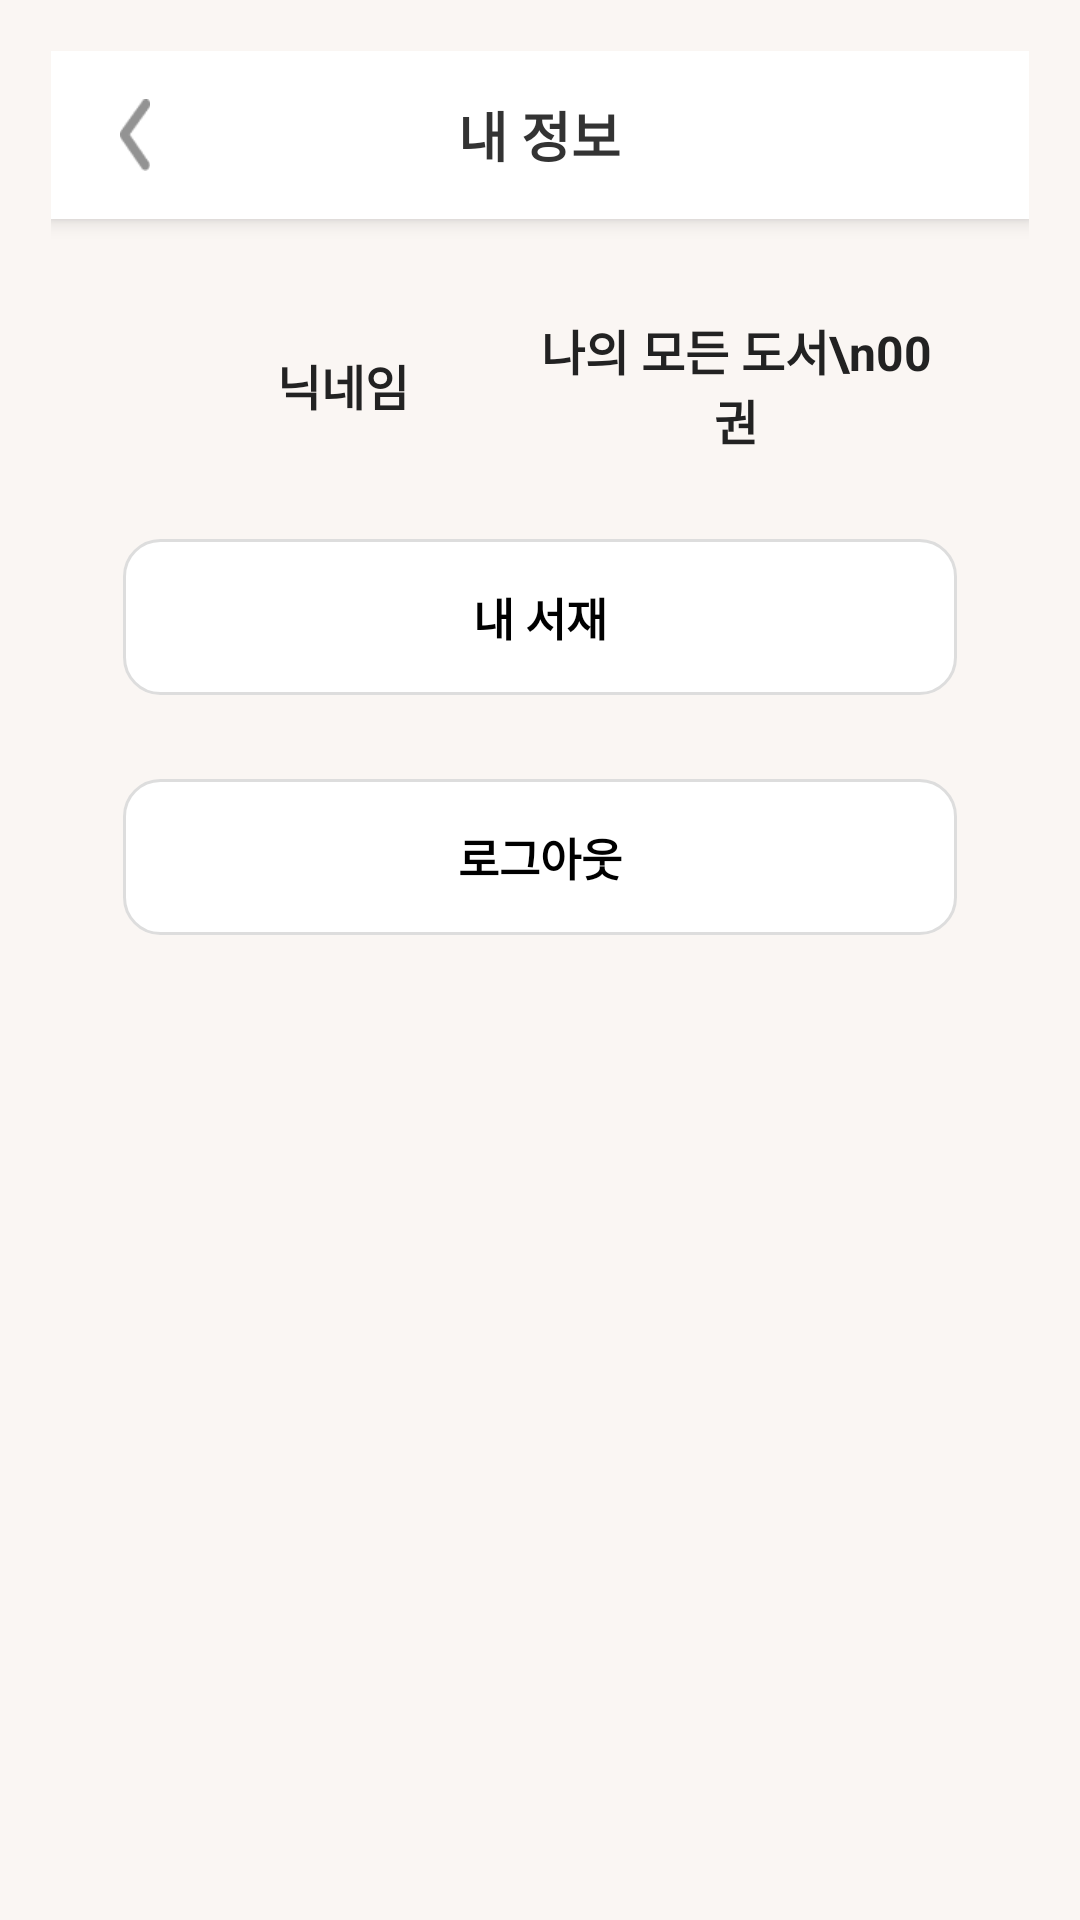

Icons on this 1080 x 1920 Android screen, each with its box as (x1, y1, x2, y2):
arrow back: (120, 99, 150, 171)
